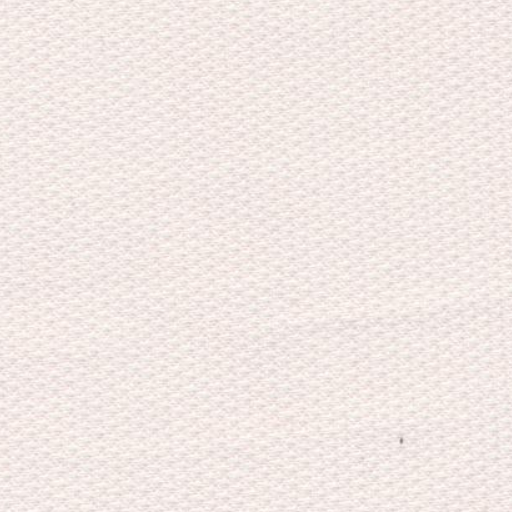WuZi: (384, 414, 421, 462)
